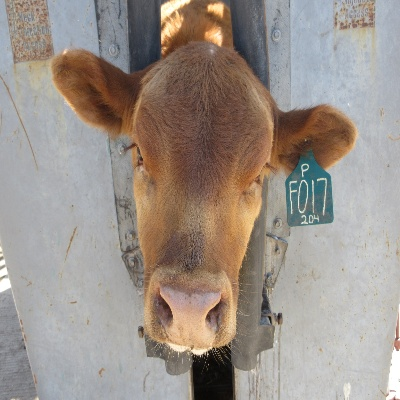fidget_spinner: (153, 286, 223, 351)
